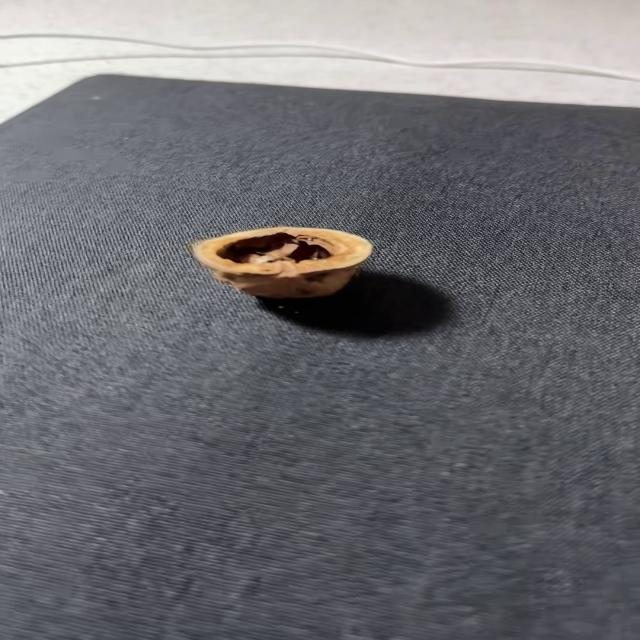nuts-bad0.5: (193, 227, 372, 299)
